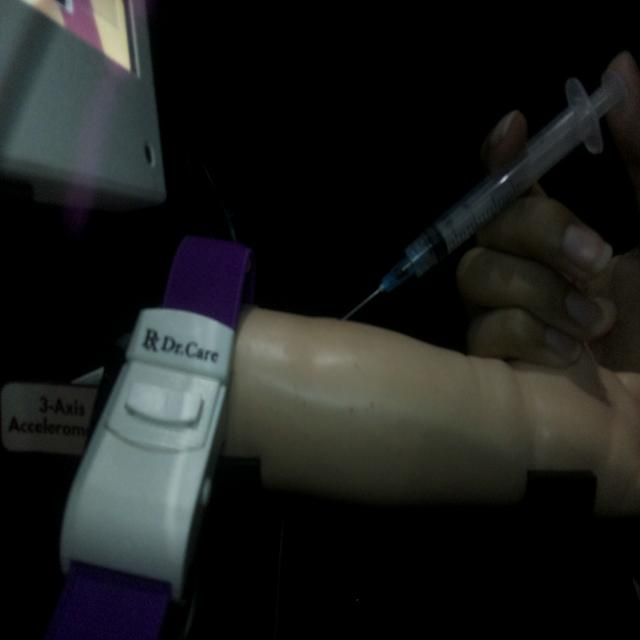30 degrees: (342, 65, 630, 326)
